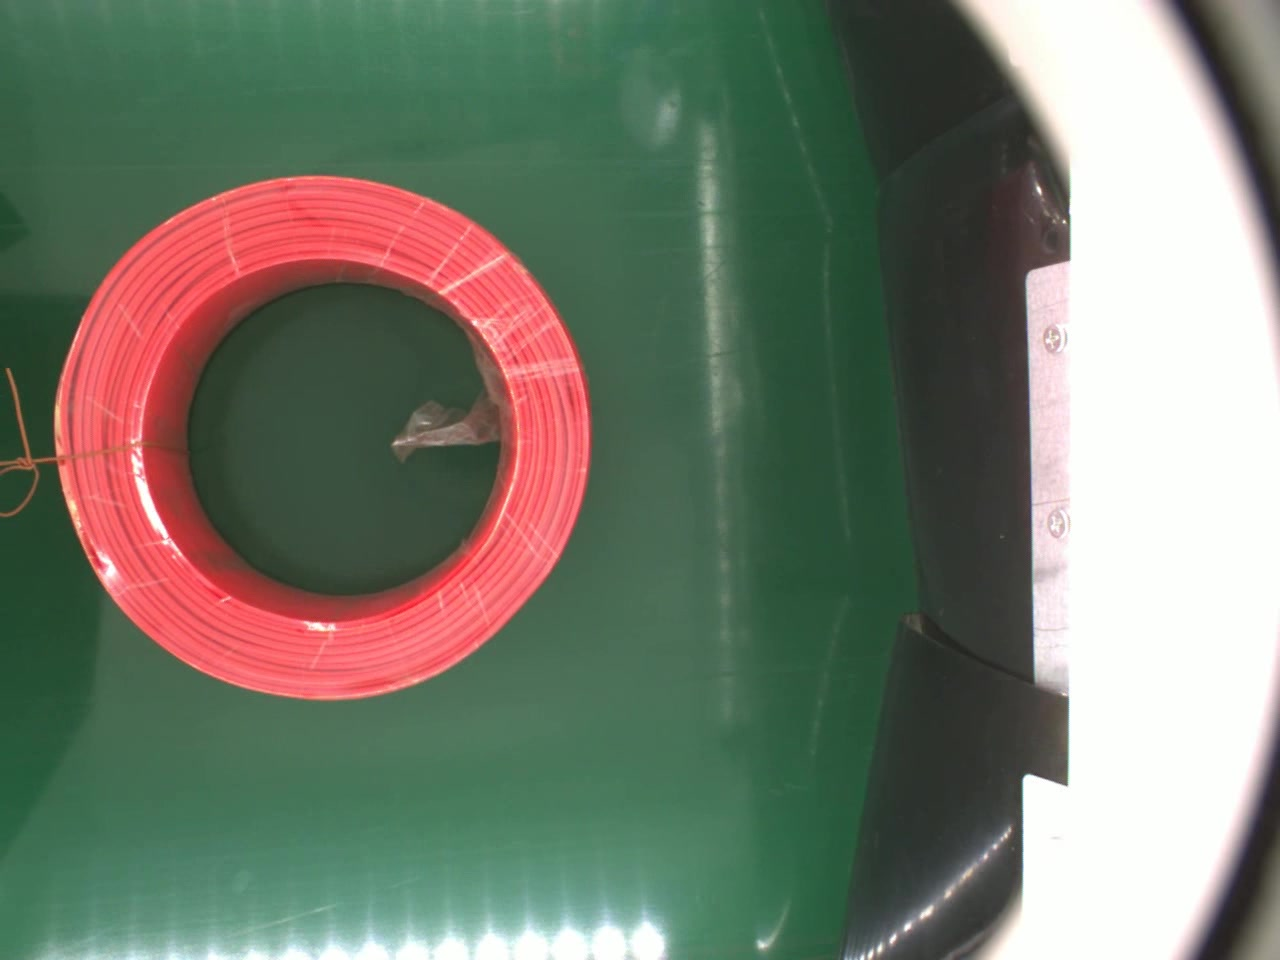red: (47, 167, 596, 708)
